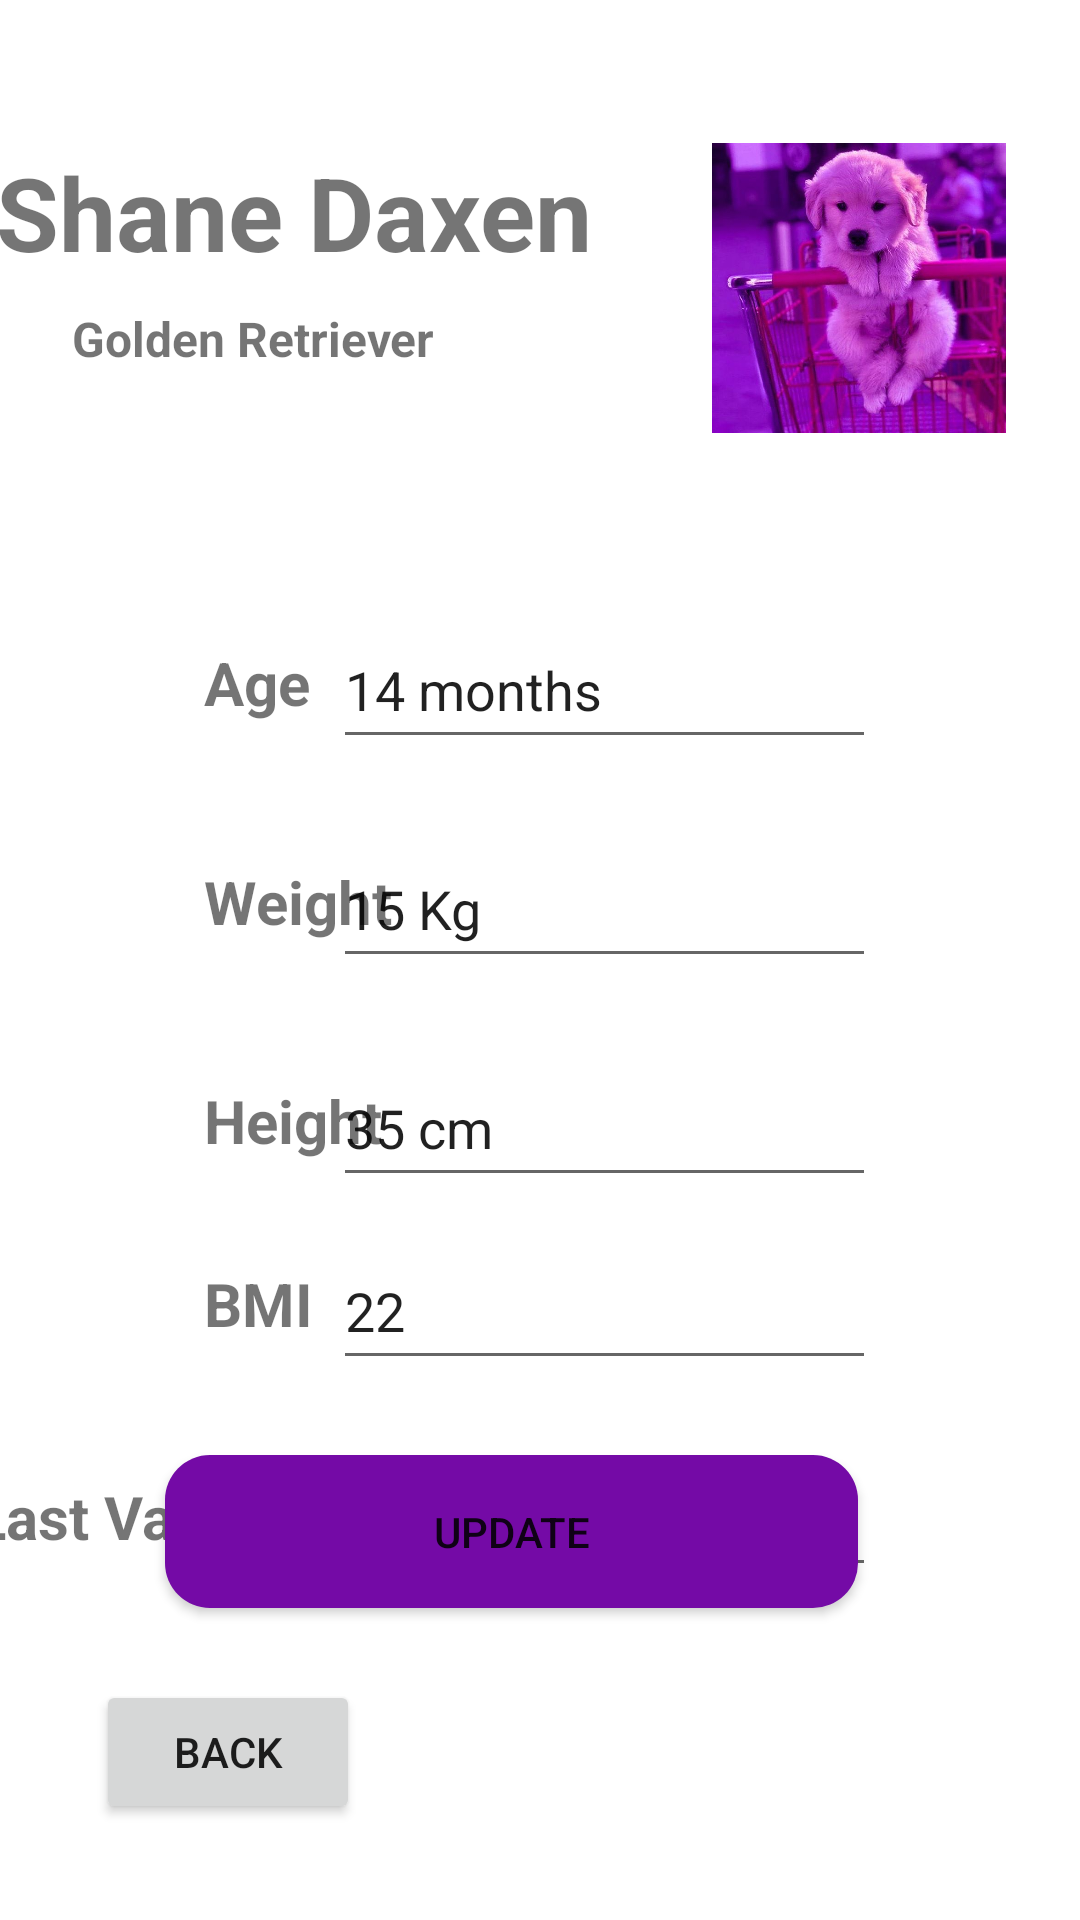

Locate icon controls on the screen. Image size 1080w x 1920h, boxes as (x1, y1, x2, y2).
profilepic: (712, 143, 1006, 433)
